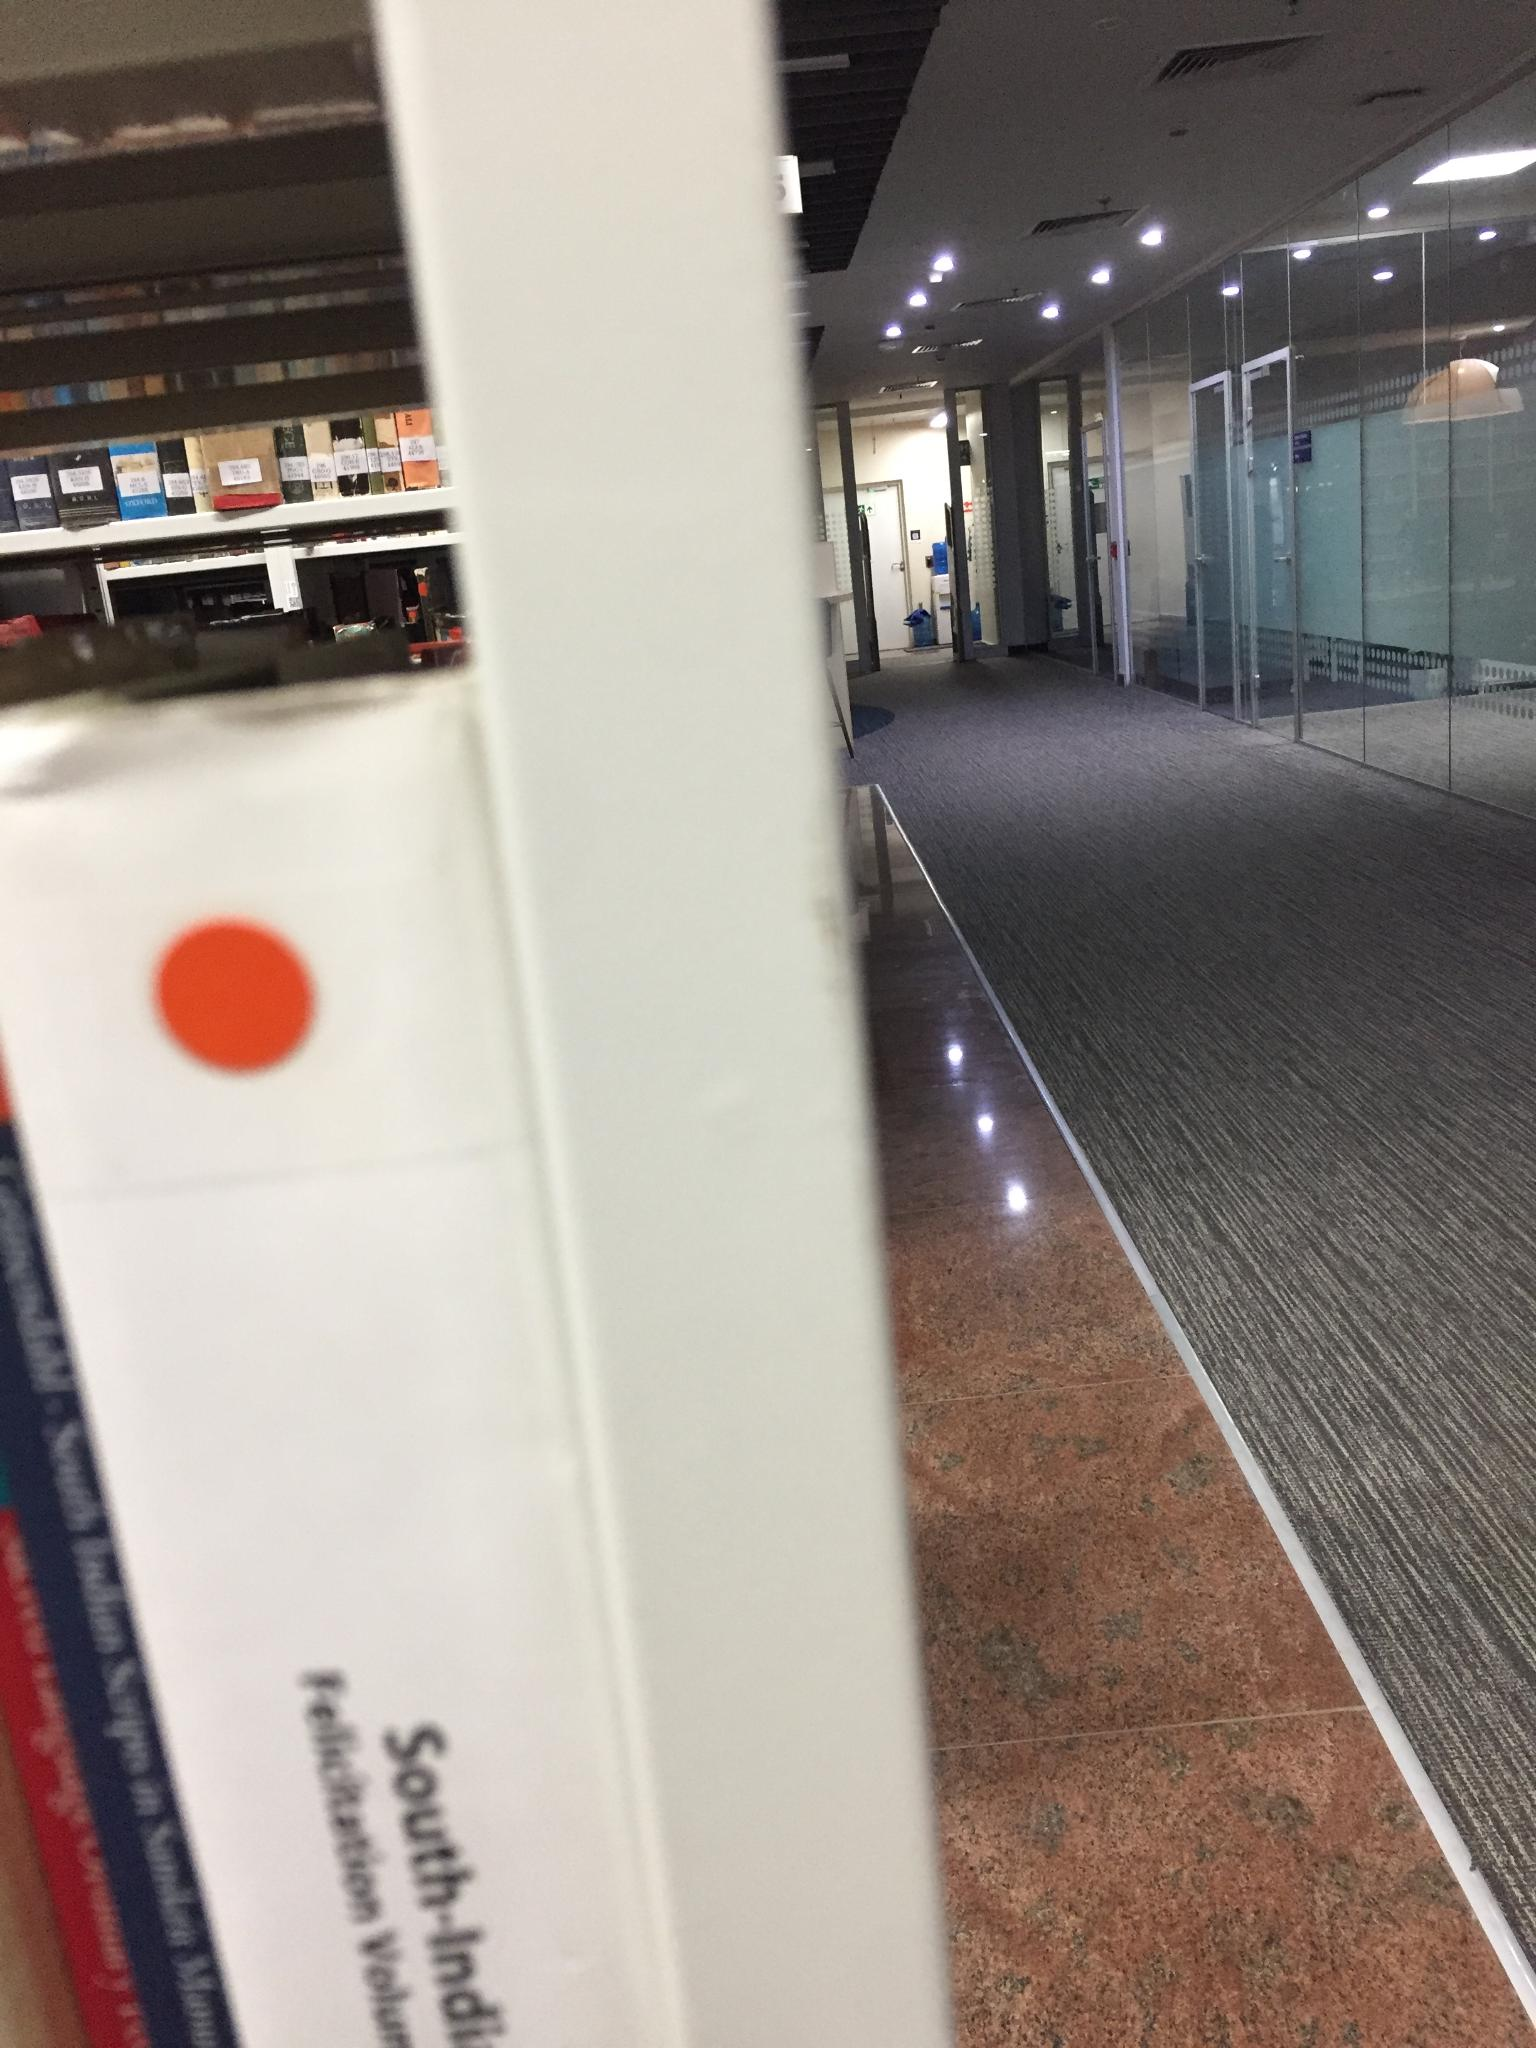chair: (799, 595, 857, 771)
